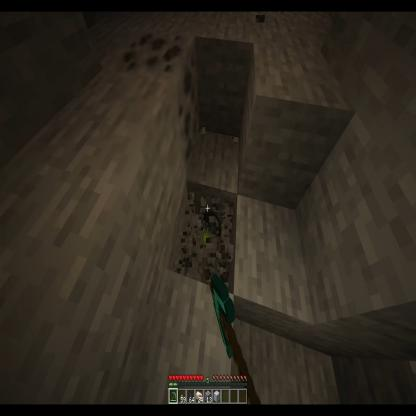coal ore: (112, 32, 199, 188)
